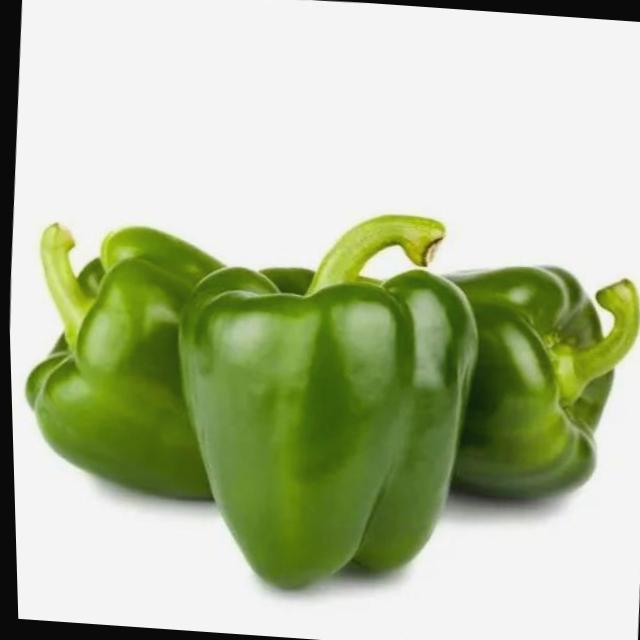Capsicum: (156, 243, 482, 608), (13, 218, 248, 501), (421, 254, 640, 507)
